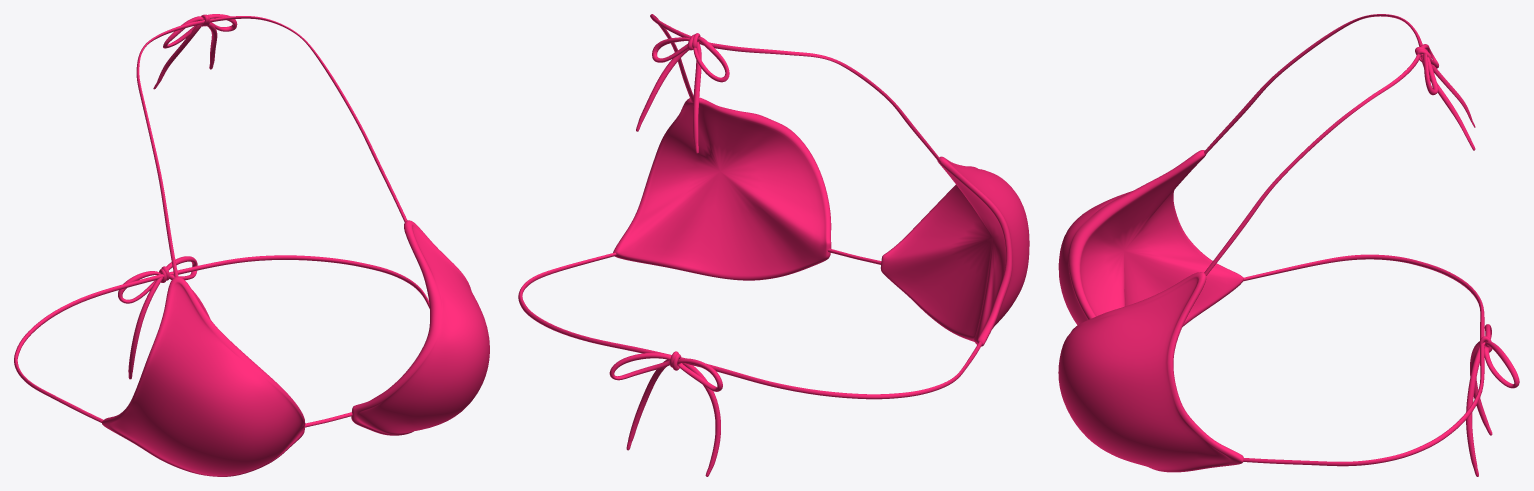
The model's file is HH_bra01.fbx.
3 renders of one model, left to right at view 1: azimuth 30°, elevation 25°; view 2: azimuth 150°, elevation 25°; view 3: azimuth 270°, elevation 25°, orthographic. The views are drawn at different scales.
Parts seen in each view (by area): view 1: forth_clothes_hair:Tops; view 2: forth_clothes_hair:Tops; view 3: forth_clothes_hair:Tops.
Boxes of the visible parts, left/top/right/bottom form: forth_clothes_hair:Tops: left=14, top=14, right=489, bottom=476; forth_clothes_hair:Tops: left=518, top=14, right=1029, bottom=476; forth_clothes_hair:Tops: left=1058, top=14, right=1519, bottom=476.
Bounding box in the file's own units: 1.19 × 1.1 × 1.12.
